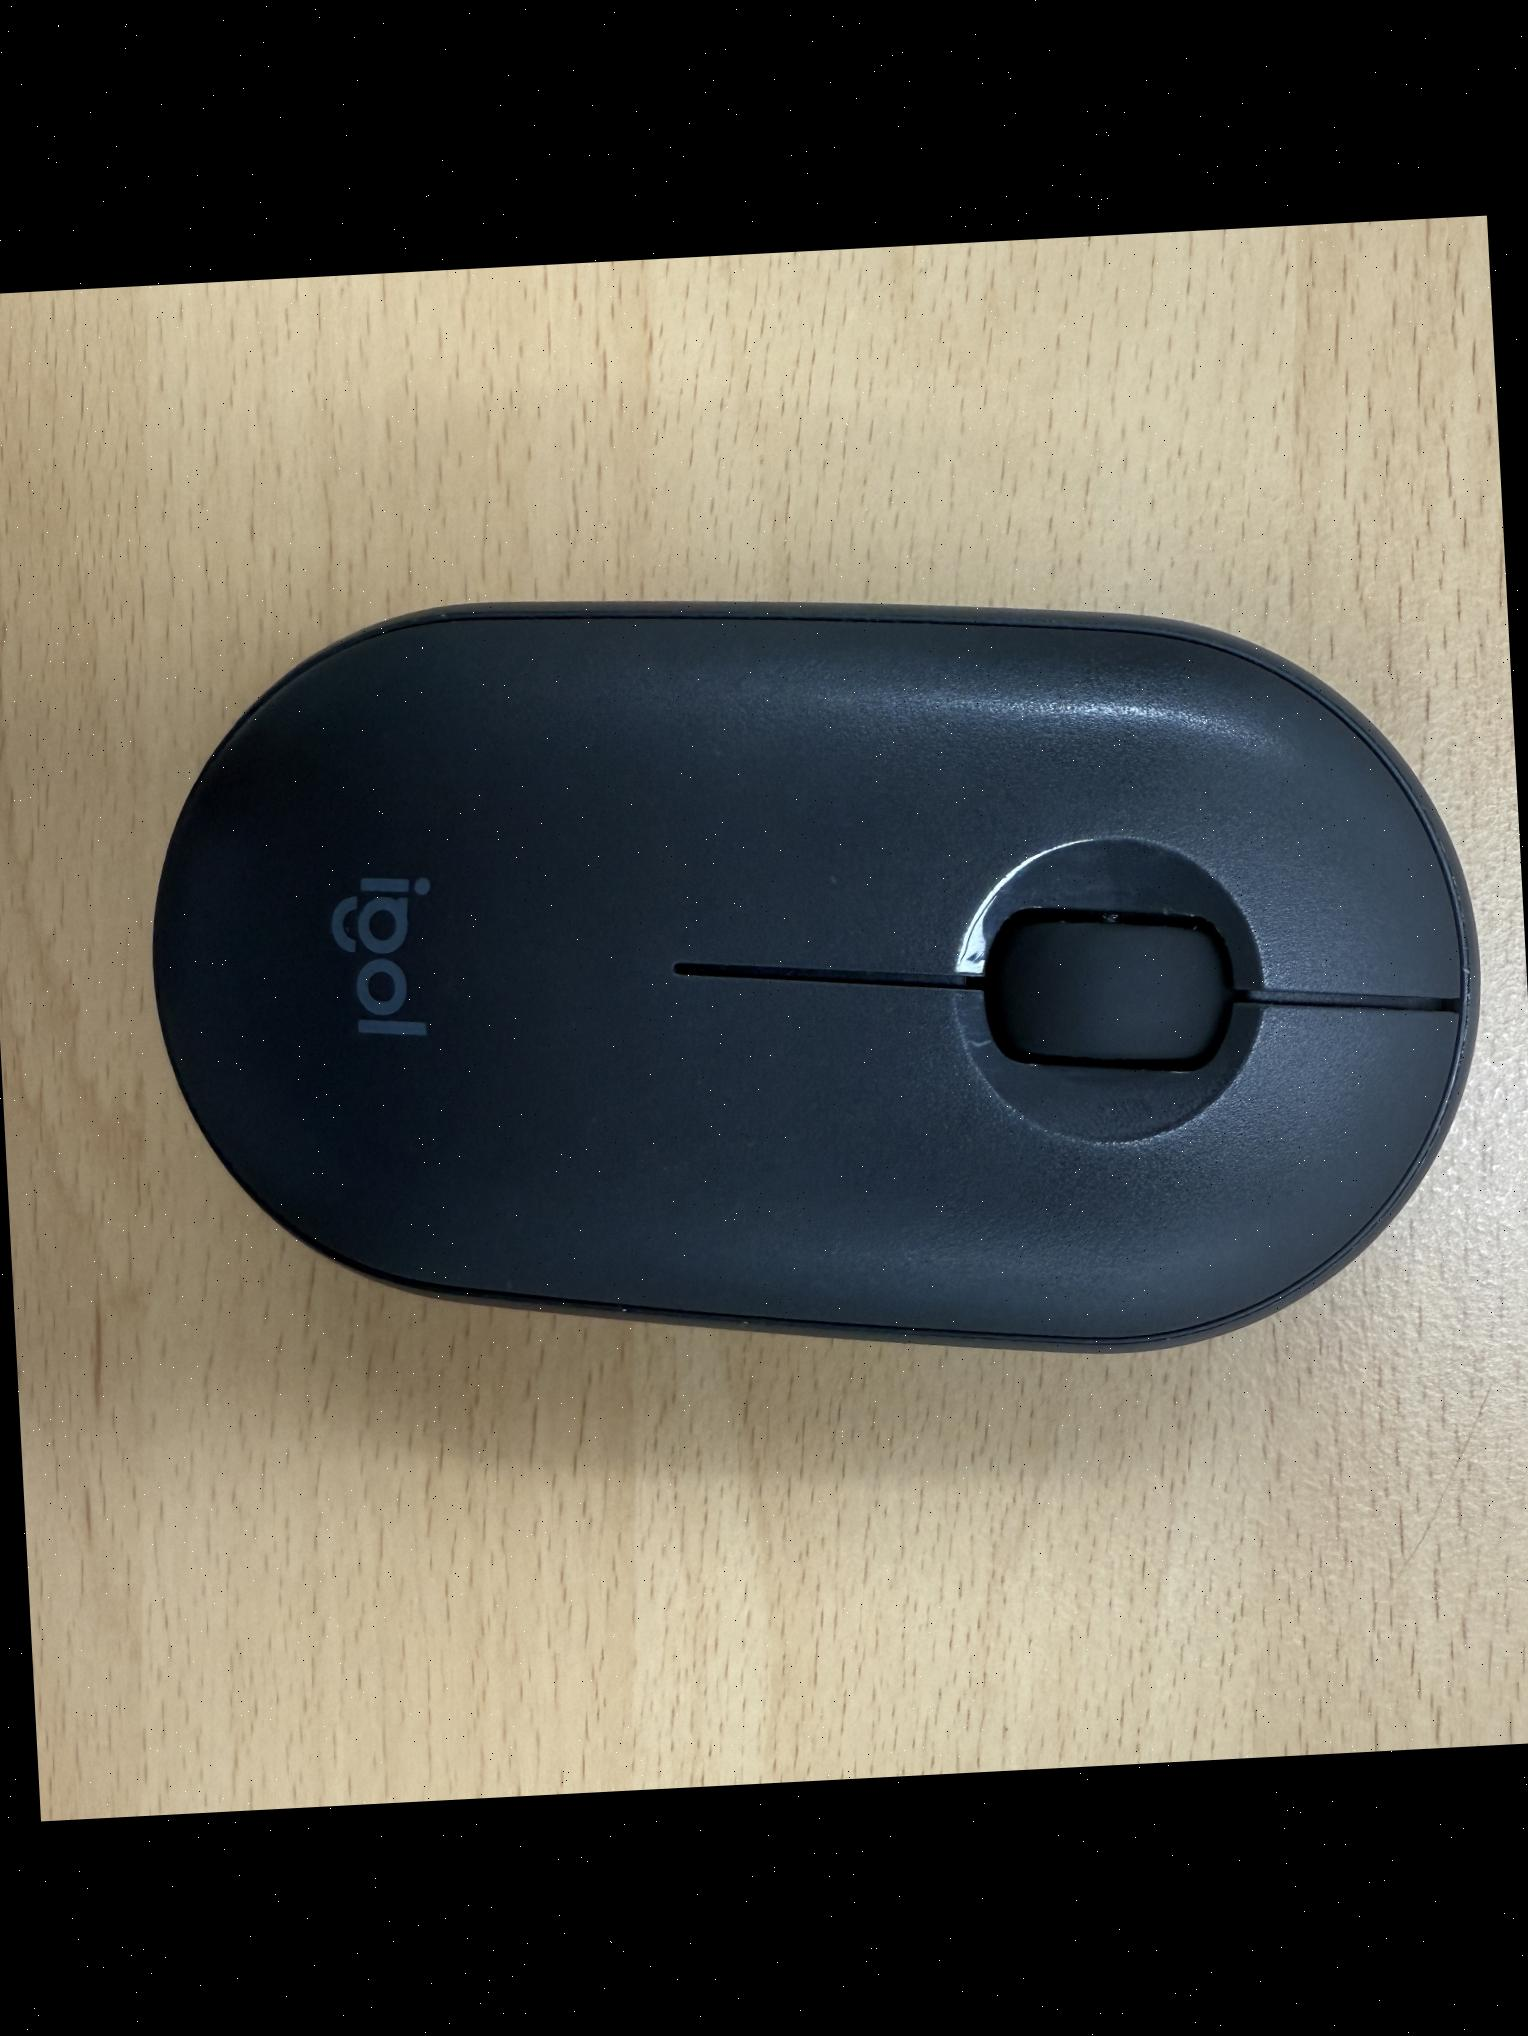front: (125, 542, 1502, 1407)
